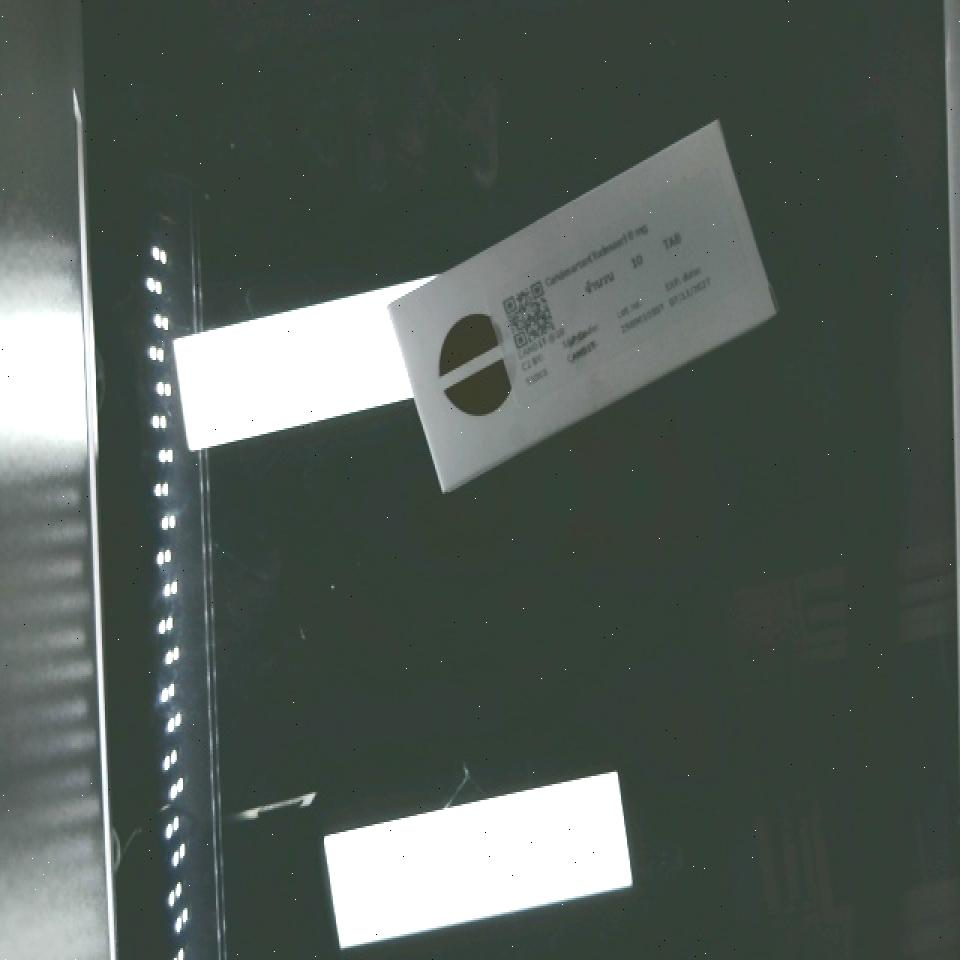medicine_box: (351, 116, 813, 492)
qr_code: (483, 262, 576, 378)
